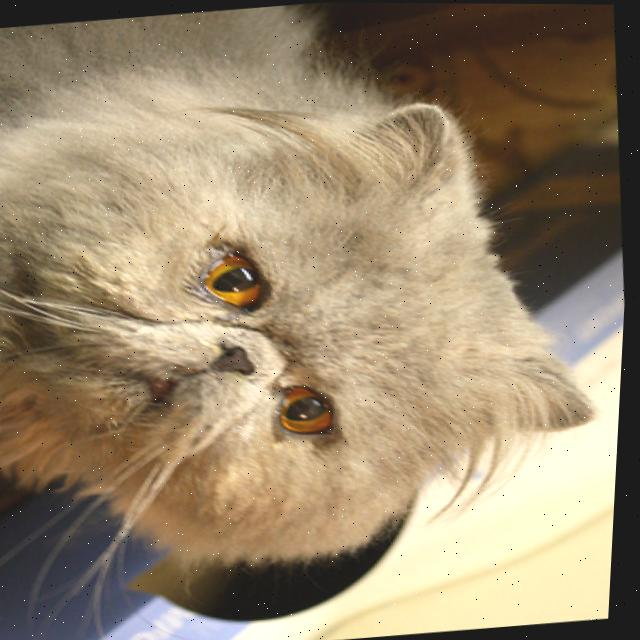Persian: (0, 0, 632, 591)
